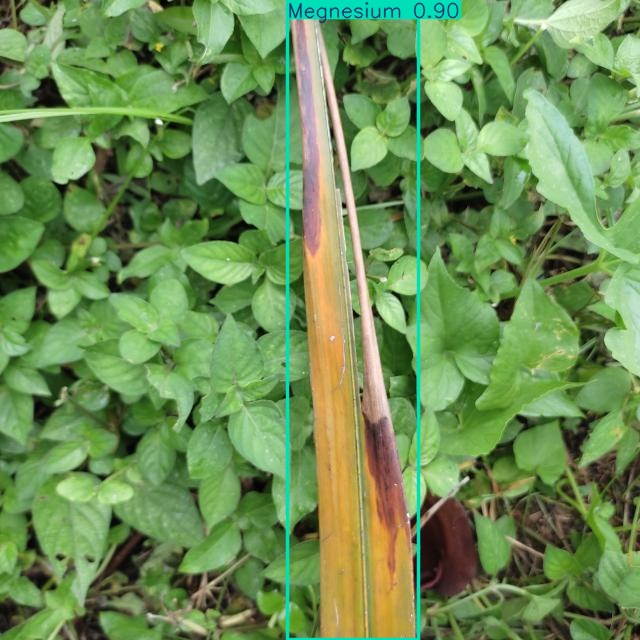Megnesium: (287, 0, 418, 640)
